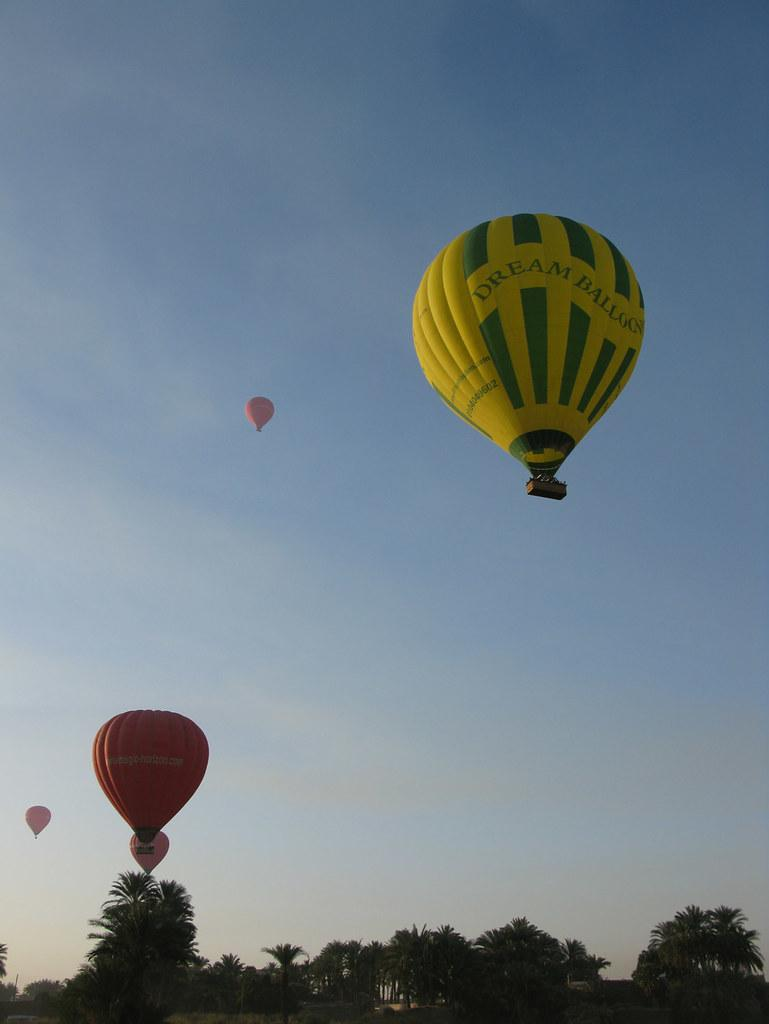balloon: (412, 212, 646, 501), (92, 708, 210, 874), (245, 396, 275, 432), (25, 805, 52, 839)
